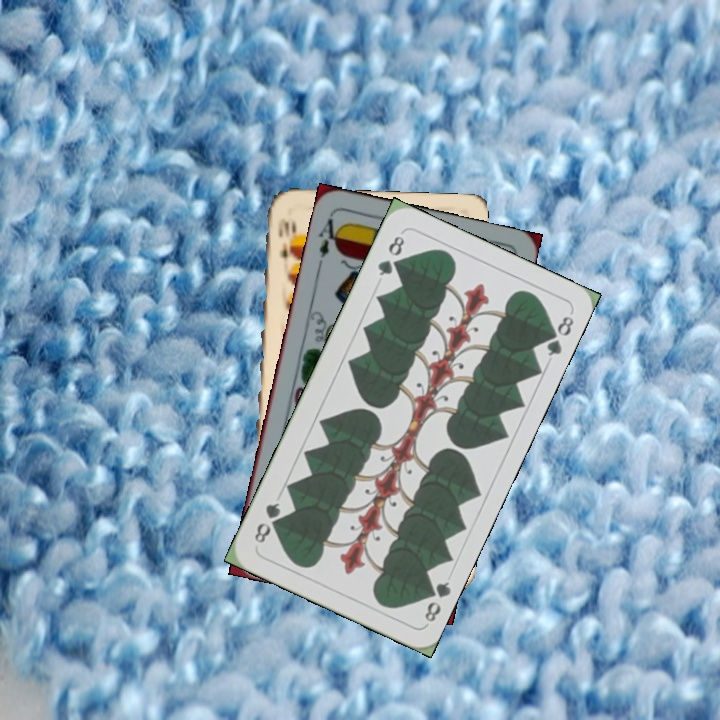E10: (274, 214, 293, 262)
EA: (314, 211, 345, 260)
G8: (419, 577, 454, 627), (373, 231, 407, 279)
